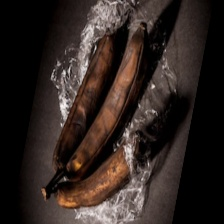banana: (57, 43, 206, 183)
